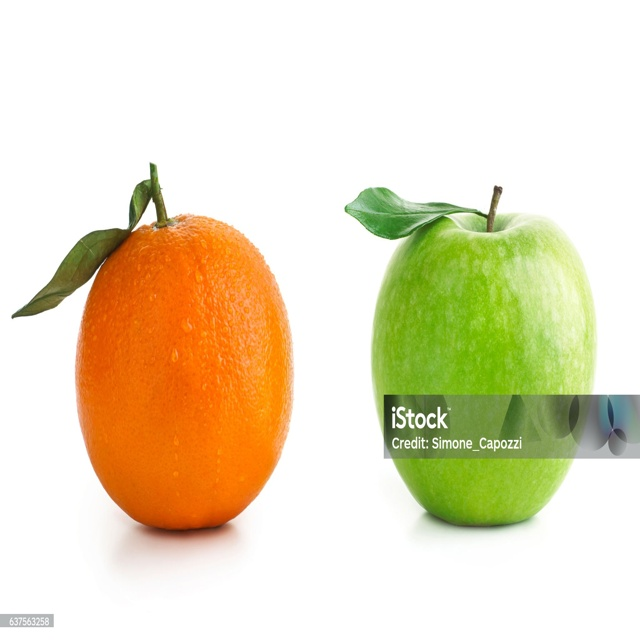apple: (347, 189, 620, 542)
orange: (47, 187, 316, 541)
